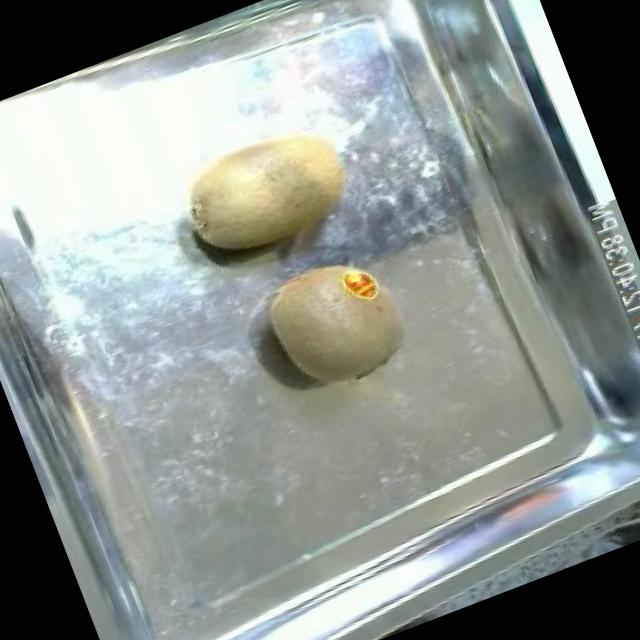Fruit: (160, 100, 375, 284), (245, 230, 430, 410)
